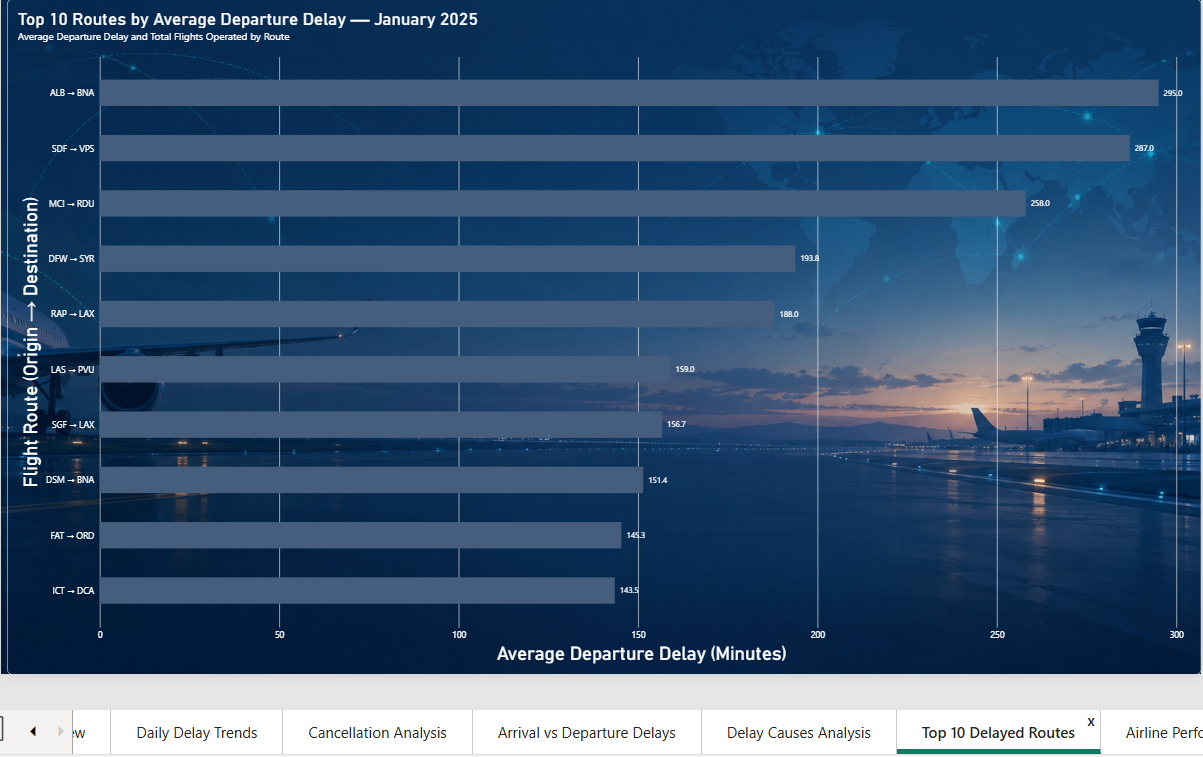

The page's visual inventory and layout, read from the dashboard file:
{"tool":"powerbi","page":{"name":"Top 10 Delayed Routes","canvas":[1920,1080],"ordinal":5},"visuals":[{"type":"clusteredBarChart","title":"Top 10 Routes by Average Departure Delay — January 2025","fields":{"Y":["flight_operations_january_2025_clean.Average Departure Delay"],"Category":["flight_operations_january_2025_clean.Route"]},"box":[10.3,0,1910.1,1080.6],"z":0}]}

Visuals, with their boxes on the page's 1920x1080 design canvas (x1, y1, x2, y2). These are canvas units, not pixel positions in the 1203x757 screenshot, which may show the page scaled, cropped or inside an application window:
"Top 10 Routes by Average Departure Delay — January 2025" clusteredBarChart: (10,0,1920,1081)
